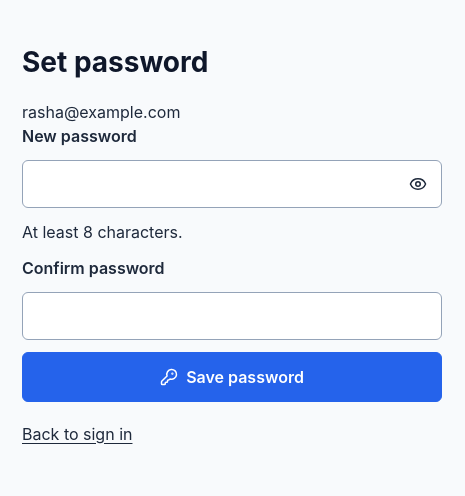
Test: password setup and recovery › requires matching passwords and preserves the existing account ID
Type "new password" into the password field labelled "New password". click: (232, 184)
box: [22,160,442,208]
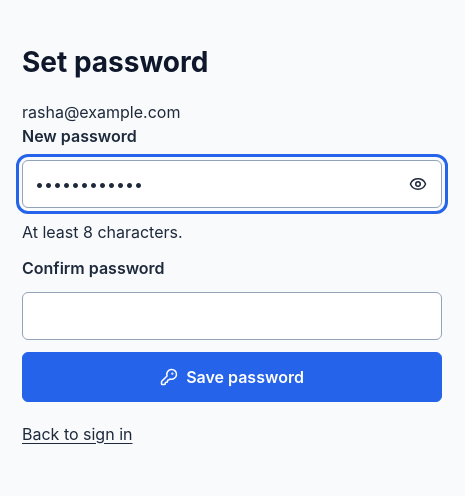
Type "different password" into the password field labelled "Confirm password". click: (232, 316)
box: [22,292,442,340]
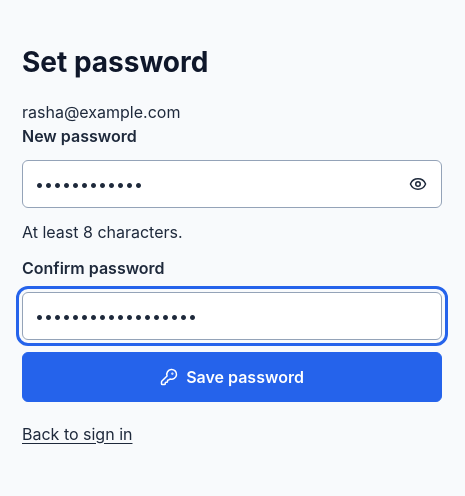
Click the button "Save password". click: (232, 376)
box: [22,352,442,402]
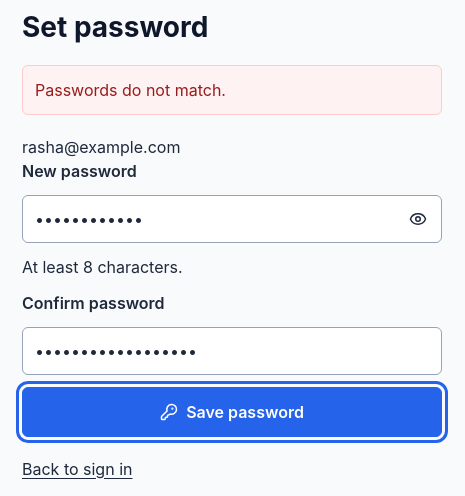
expect the message reads "Passwords do not match.": met, box [35,80,226,100]
Type "new password" into the password field labelled "Confirm password". click: (232, 350)
box: [22,326,442,374]
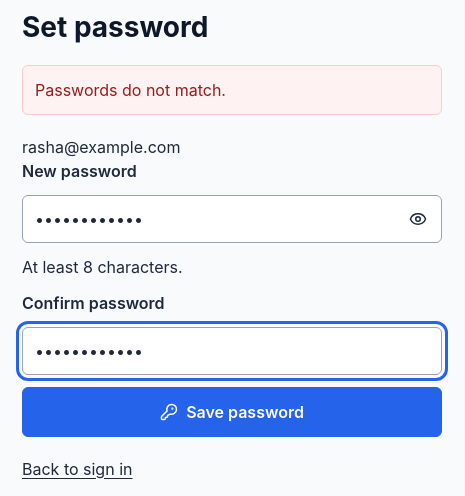
Click the button "Save password". click: (232, 412)
box: [22,386,442,436]
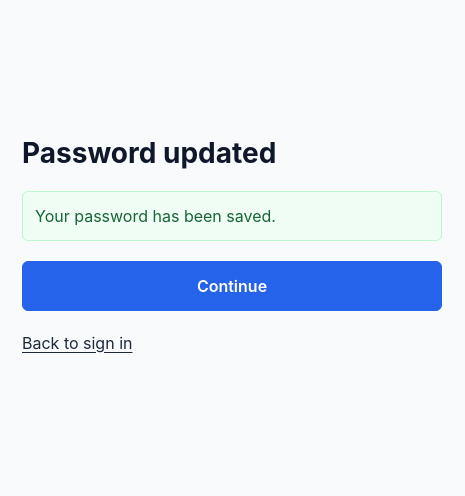
expect the heading "Password updated" is shown: met, box [22,136,276,170]
